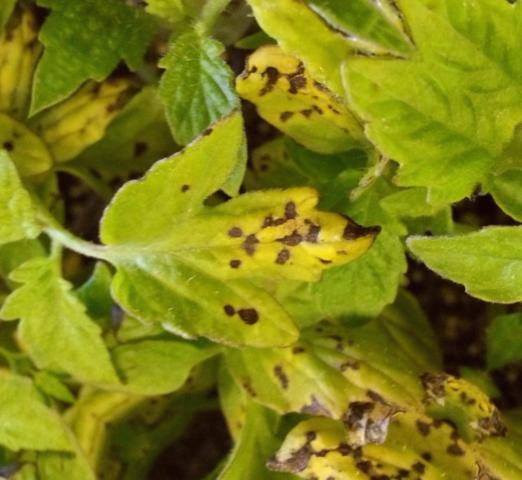Tomato leaf bacterial spot: (46, 72, 392, 409), (204, 20, 407, 196), (0, 234, 165, 411)
